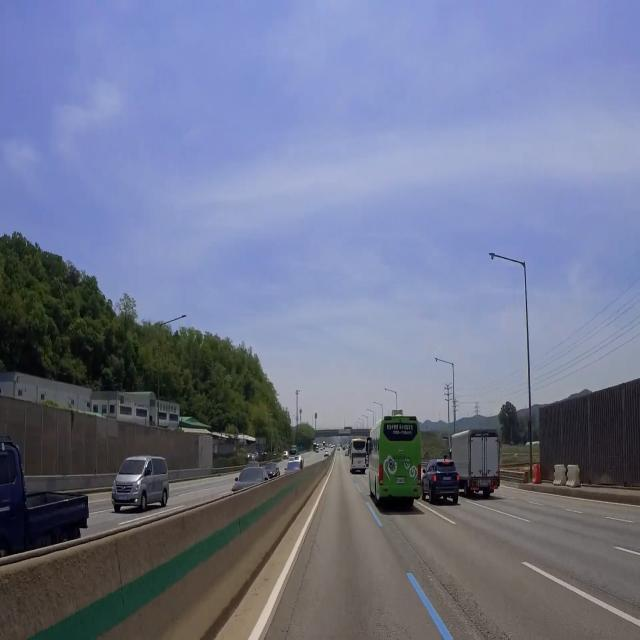car: (113, 493, 131, 506), (394, 473, 409, 488), (478, 477, 492, 491), (442, 473, 455, 482)
